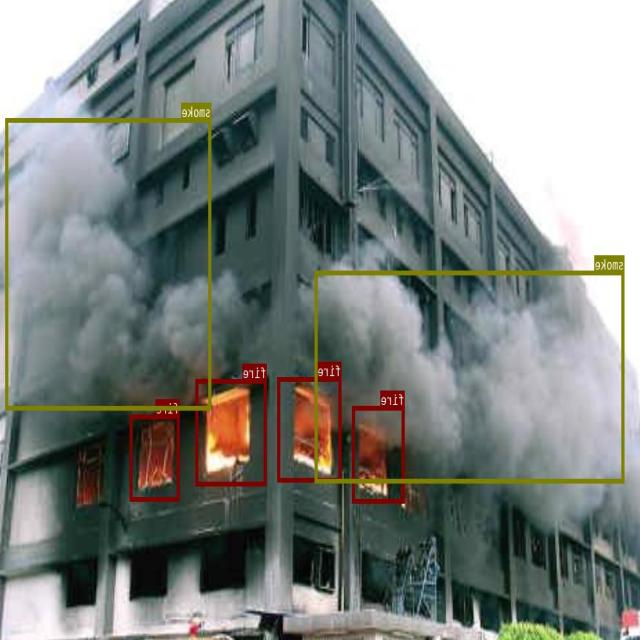fire: (197, 379, 267, 485), (278, 376, 342, 481), (353, 405, 405, 502), (130, 414, 180, 500)
smoke: (316, 270, 625, 482), (7, 117, 212, 409)
